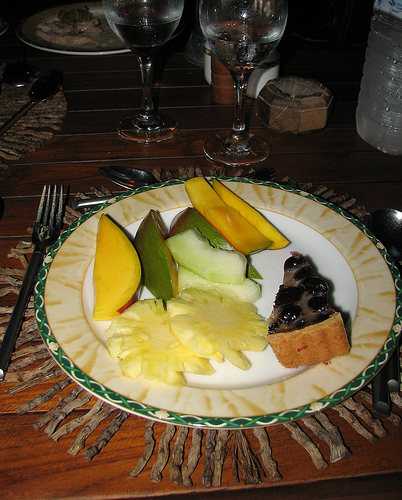pineapple: (101, 296, 216, 390), (166, 285, 270, 372)
